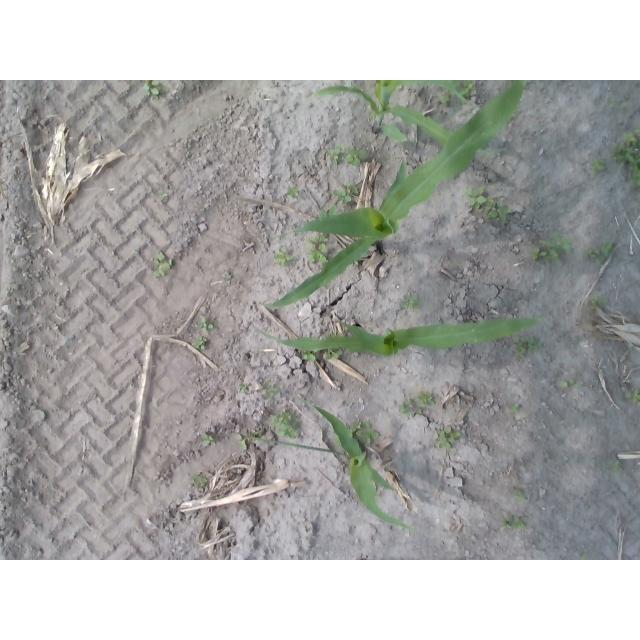Maize: (263, 81, 525, 310), (316, 406, 412, 532), (243, 317, 540, 354), (314, 81, 482, 143)
Weeds: (615, 130, 640, 186), (305, 235, 331, 262), (272, 412, 300, 437), (439, 427, 461, 448), (588, 241, 612, 260), (535, 241, 557, 260), (488, 200, 508, 220), (335, 186, 357, 203), (346, 148, 367, 165), (518, 338, 539, 355), (467, 187, 485, 206), (236, 433, 257, 449), (358, 425, 379, 440), (156, 252, 168, 276), (273, 249, 292, 264), (418, 391, 435, 406), (555, 235, 571, 250), (145, 81, 160, 96), (401, 401, 416, 416), (625, 389, 639, 403), (594, 159, 607, 174), (264, 381, 277, 396), (399, 296, 413, 309), (202, 434, 217, 446), (199, 318, 214, 330), (190, 476, 207, 486), (464, 84, 476, 97), (154, 182, 167, 194), (560, 378, 577, 387), (592, 296, 604, 308), (507, 520, 526, 527), (331, 146, 342, 158), (195, 336, 206, 348), (287, 187, 299, 197), (514, 486, 524, 498), (611, 460, 621, 471), (351, 424, 361, 434), (241, 383, 251, 392), (510, 404, 519, 412), (221, 273, 231, 279)
